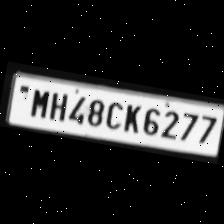2: (157, 104, 181, 140)
4: (64, 89, 88, 124)
6: (138, 102, 163, 136)
7: (192, 110, 217, 145), (175, 106, 199, 142)
8: (82, 93, 106, 127)
C: (101, 96, 125, 130)
H: (44, 86, 68, 121)
K: (118, 99, 142, 134)
M: (25, 82, 51, 118)
